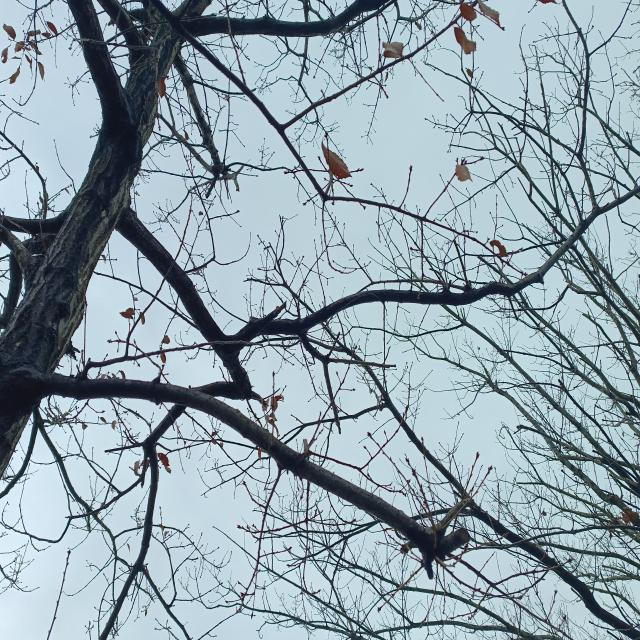Branch: (39, 377, 471, 572), (117, 208, 239, 358)
Twig: (235, 186, 640, 355), (100, 358, 253, 640)
